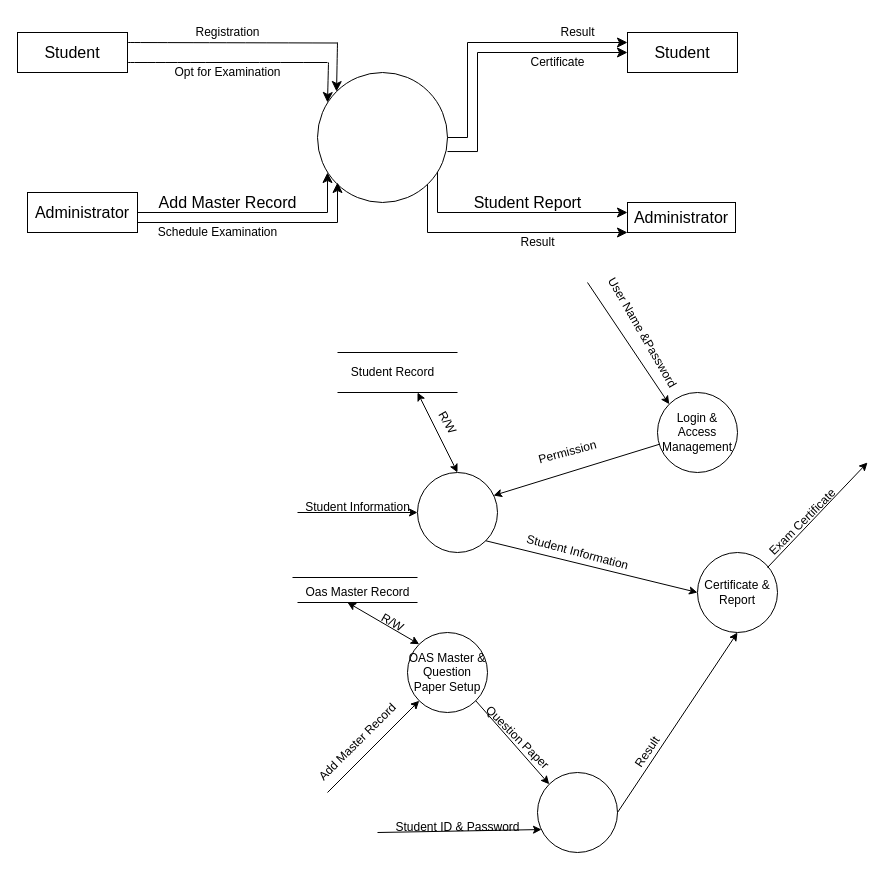
Image size: 893x870. Some labels were removed from this diagram. Each missing label, with the centre of its shape:
Conduct Online Exam: the point at 577,812
Online Examination System: the point at 382,137
Student Registration: the point at 457,512
